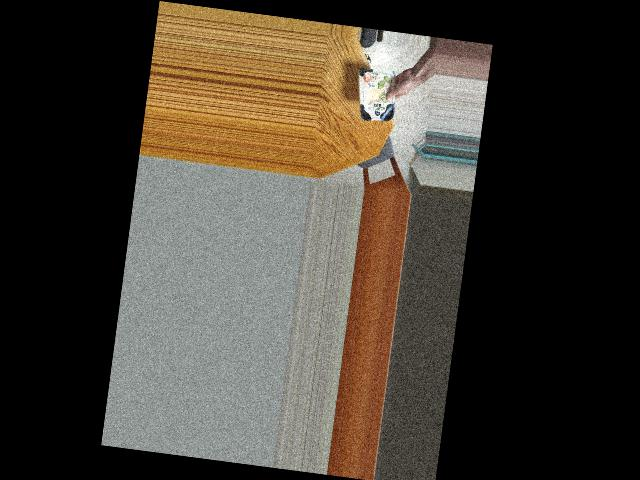cheese: (356, 71, 398, 121)
